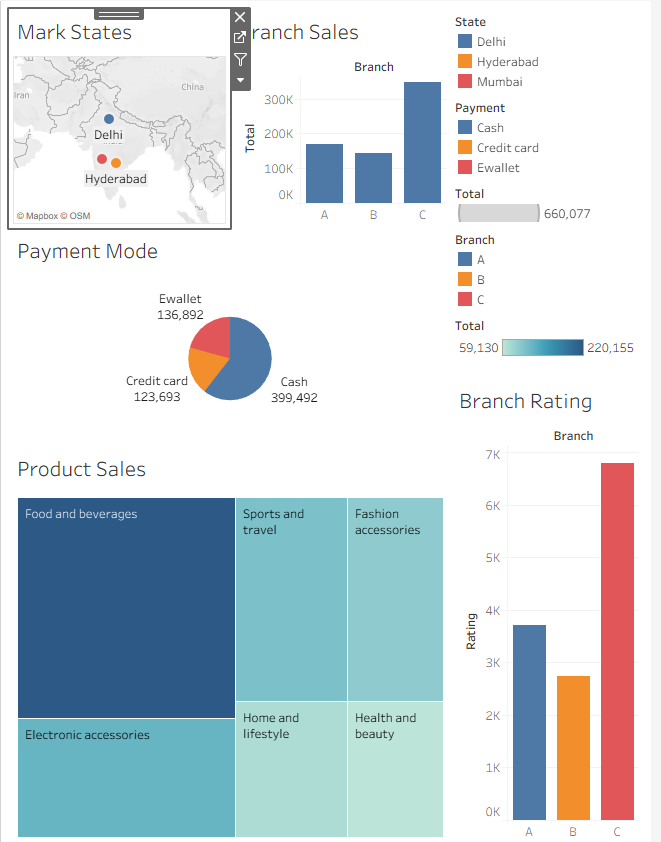

What the dashboard file says about the page in this screenshot:
{"tool":"tableau","page":{"name":"Dashboard 1","canvas":[650,860],"ordinal":0},"visuals":[{"type":"worksheet","title":"Mark States","mark":"Automatic","box":[8,8.1,221,220.6]},{"type":"worksheet","title":"Branch Sales","mark":"Automatic","rows":["Total"],"cols":["Branch"],"box":[229,8.1,221,220.6]},{"type":"legend","title":"Mark States","param":"[federated.0yghvv21ye2bjk1eyydrp0bwj3zf].[none:City:nk]","box":[450,8.1,192,86.8]},{"type":"legend","title":"Payment Mode","param":"[federated.0yghvv21ye2bjk1eyydrp0bwj3zf].[none:Payment:nk]","box":[450,94.9,192,86.8]},{"type":"legend","title":"Payment Mode","param":"[federated.0yghvv21ye2bjk1eyydrp0bwj3zf].[sum:Total:qk]","box":[450,181.7,192,46.4]},{"type":"legend","title":"Branch Rating","param":"[federated.0yghvv21ye2bjk1eyydrp0bwj3zf].[none:Branch:nk]","box":[450,228.1,192,86.8]},{"type":"worksheet","title":"Payment Mode","mark":"Pie","box":[8,228.6,442,220.5]},{"type":"legend","title":"Product Sales","param":"[federated.0yghvv21ye2bjk1eyydrp0bwj3zf].[sum:Total:qk]","box":[450,314.9,192,65.6]},{"type":"worksheet","title":"Branch Rating","mark":"Automatic","rows":["Rating"],"cols":["Branch"],"box":[450,380.5,192,471.4]},{"type":"worksheet","title":"Product Sales","mark":"Automatic","box":[8,449.2,442,402.7]}]}

Visuals, with their boxes on the page's 650x860 design canvas (x1, y1, x2, y2). These are canvas units, not pixel positions in the 661x842 screenshot, which may show the page scaled, cropped or inside an application window:
"Mark States" worksheet: [left=8, top=8, right=229, bottom=229]
"Branch Sales" worksheet: [left=229, top=8, right=450, bottom=229]
"Mark States" legend: [left=450, top=8, right=642, bottom=95]
"Payment Mode" legend: [left=450, top=95, right=642, bottom=182]
"Payment Mode" legend: [left=450, top=182, right=642, bottom=228]
"Branch Rating" legend: [left=450, top=228, right=642, bottom=315]
"Payment Mode" worksheet (Pie marks): [left=8, top=229, right=450, bottom=449]
"Product Sales" legend: [left=450, top=315, right=642, bottom=380]
"Branch Rating" worksheet: [left=450, top=380, right=642, bottom=852]
"Product Sales" worksheet: [left=8, top=449, right=450, bottom=852]
